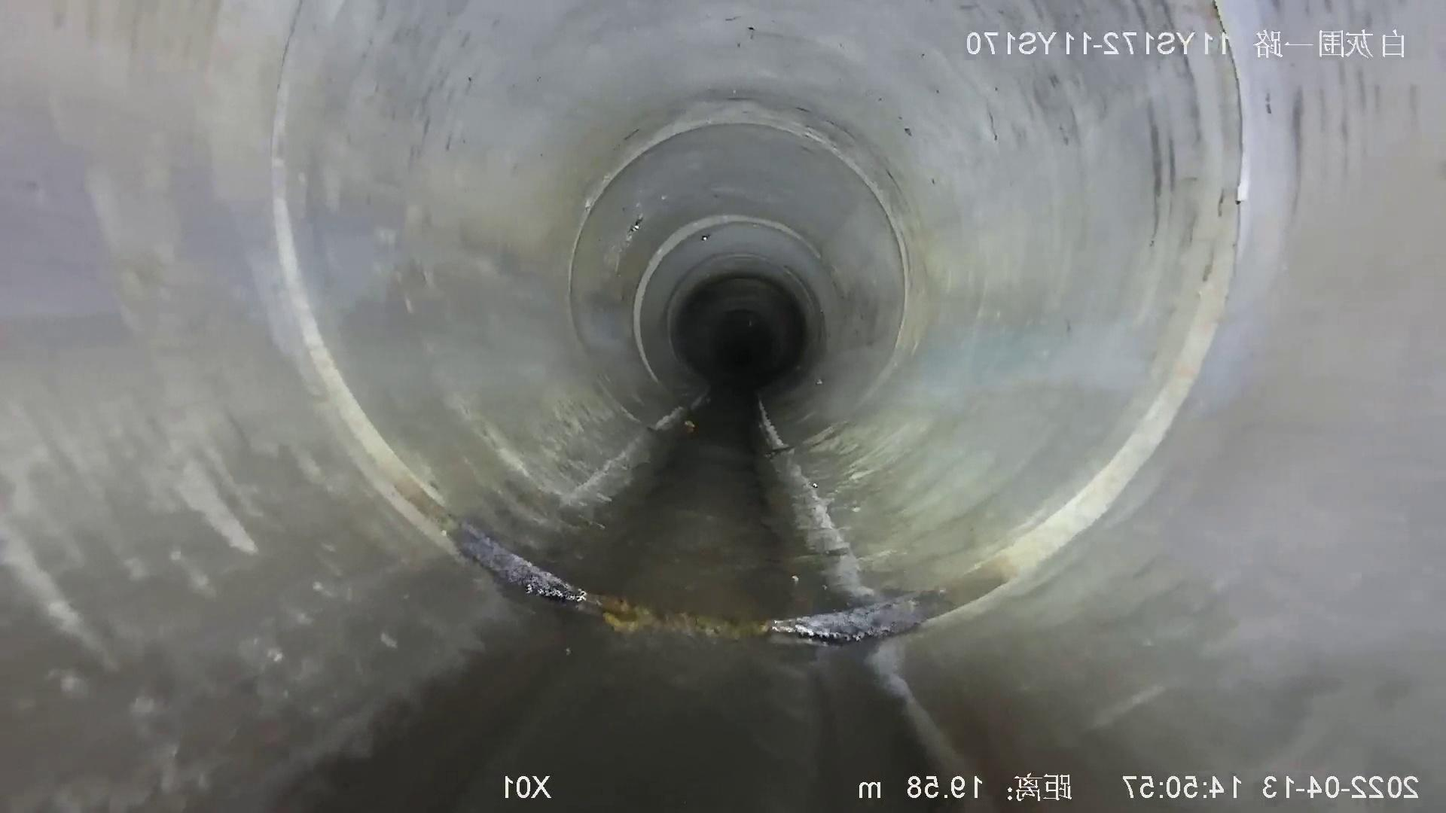CKTJ: (271, 87, 1237, 643), (560, 111, 916, 462), (632, 214, 824, 379)
